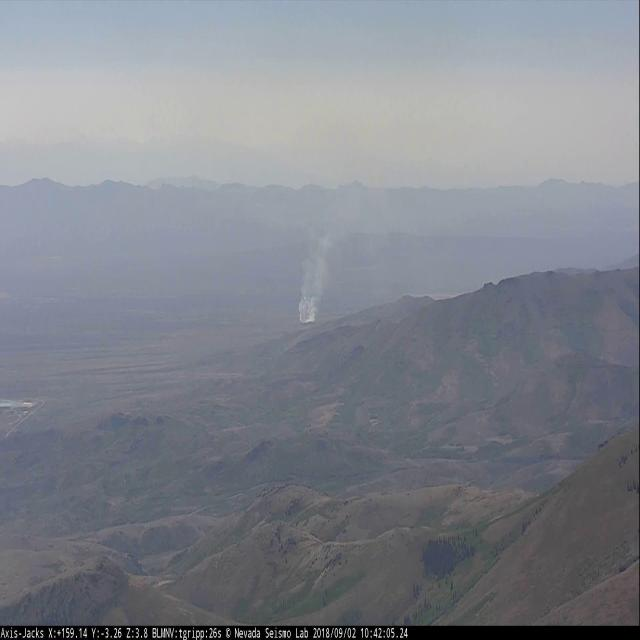smoke: (297, 185, 360, 321)
